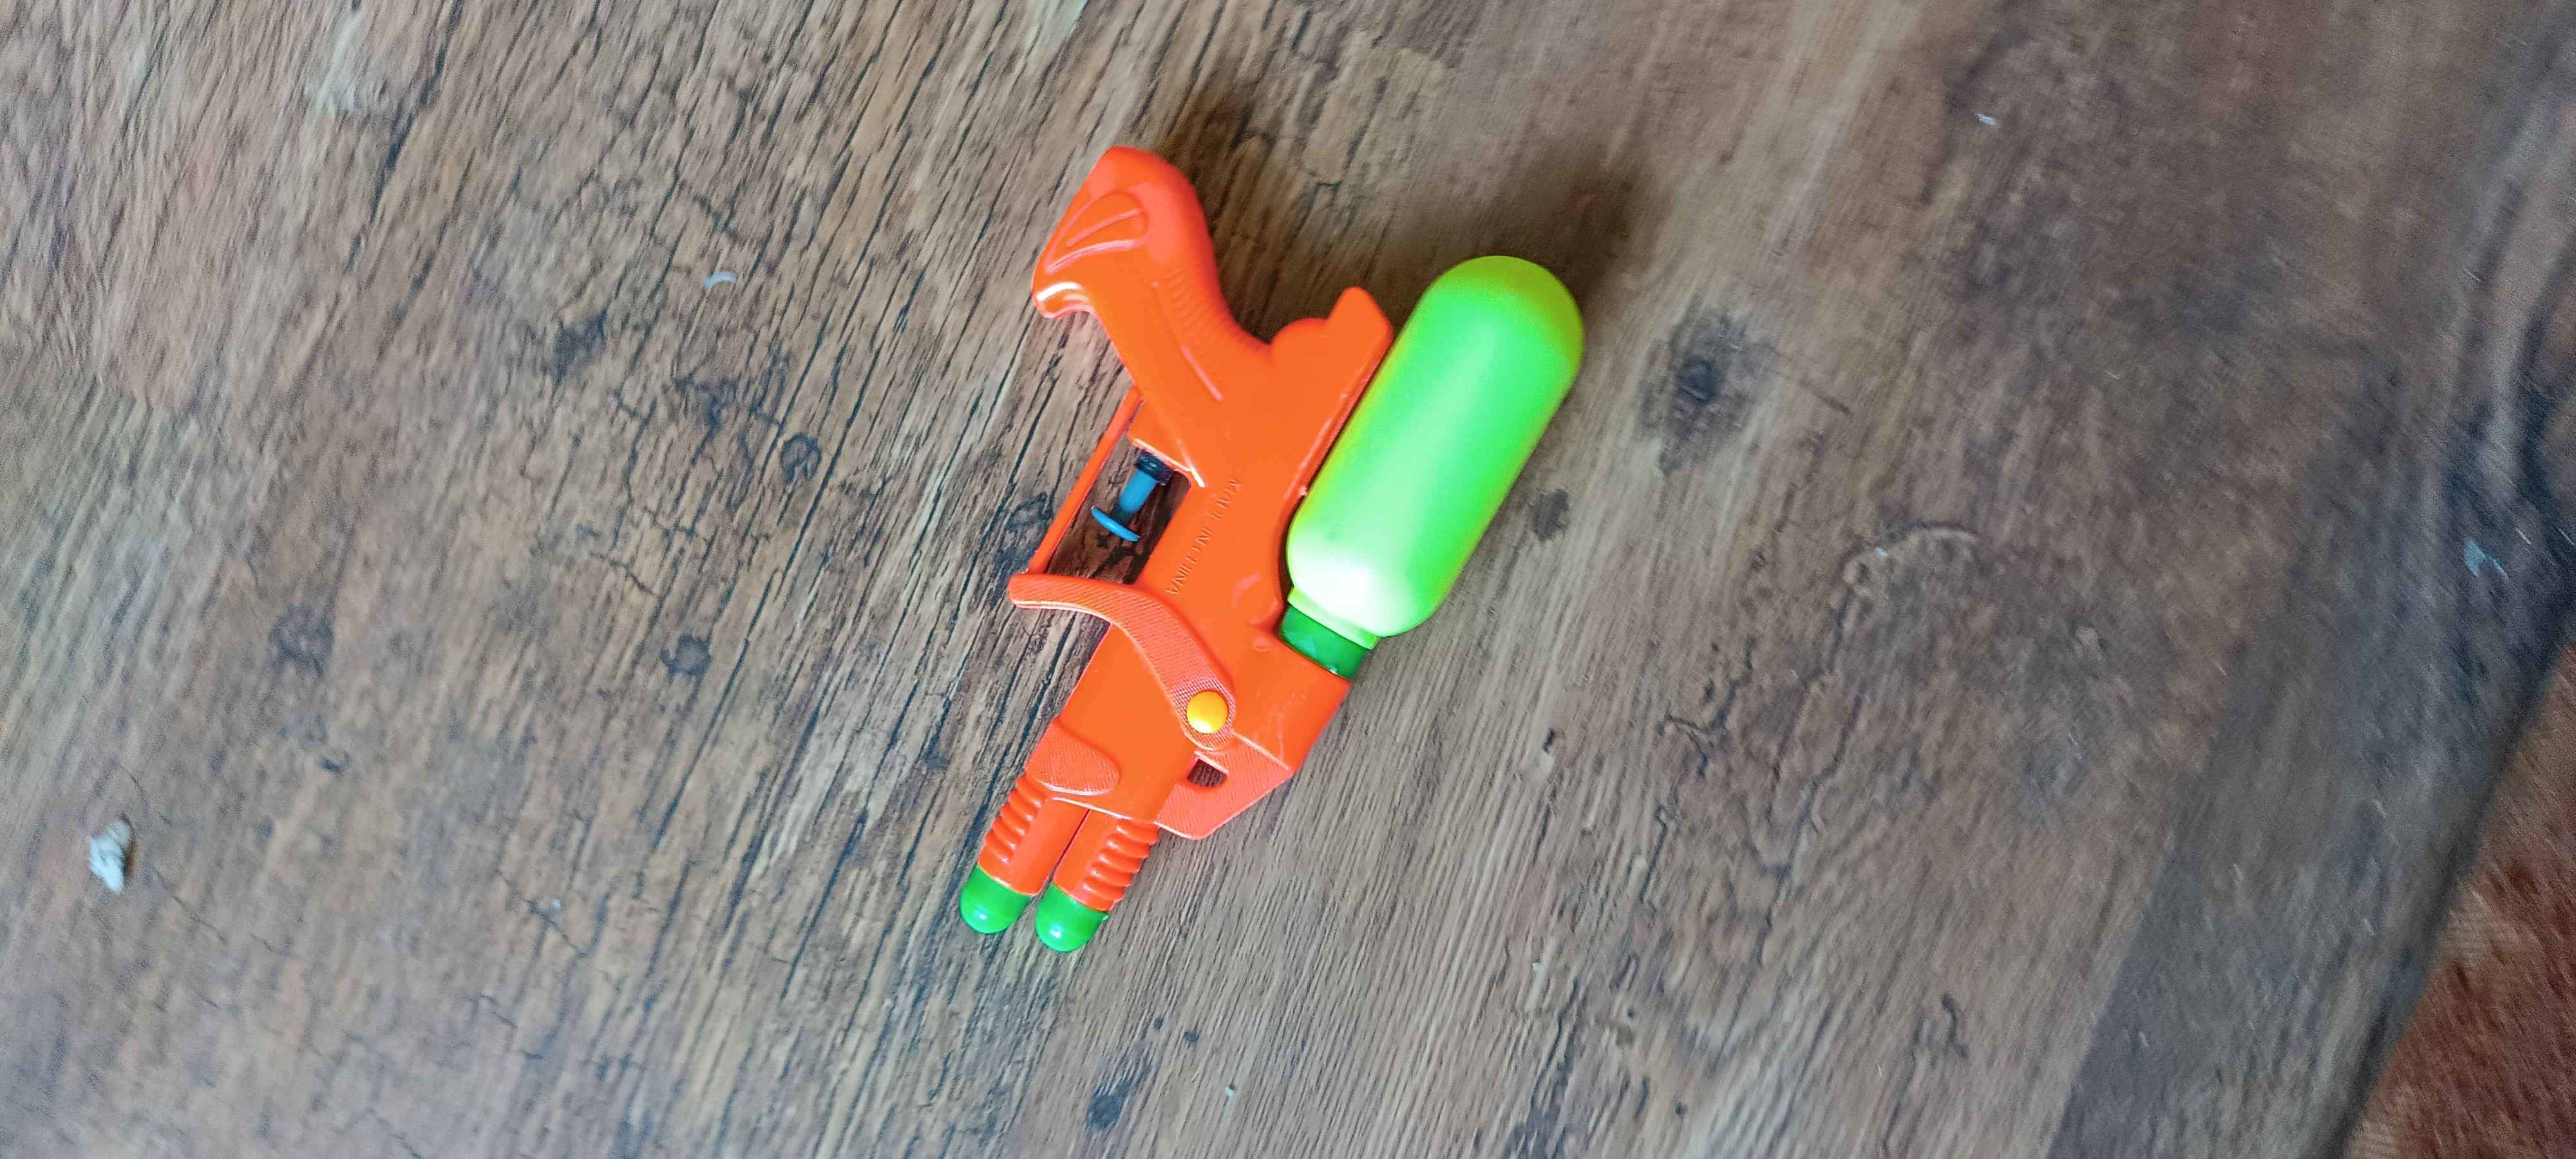Water Gun: (958, 144, 1584, 952)
